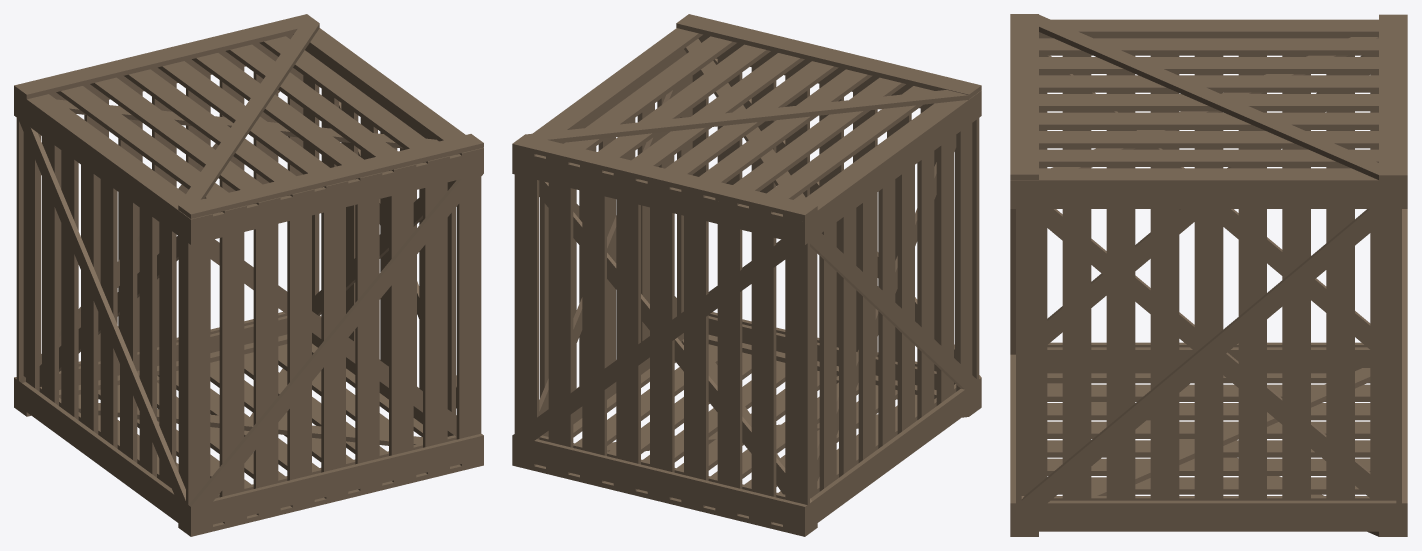
Rendered from box_cage.fbx.
3 views of the same model, side by side, from view 1: azimuth 30°, elevation 25°; view 2: azimuth 150°, elevation 25°; view 3: azimuth 270°, elevation 25° (orthographic). The views are drawn at different scales.
Parts seen in each view (by area): view 1: box_cage; view 2: box_cage; view 3: box_cage.
Part boxes in pixels (left/top/right/bottom): box_cage: left=14, top=14, right=483, bottom=536; box_cage: left=512, top=14, right=981, bottom=536; box_cage: left=1010, top=14, right=1407, bottom=536.
Size of the model in its own units: 1.39 by 1.46 by 1.45.
